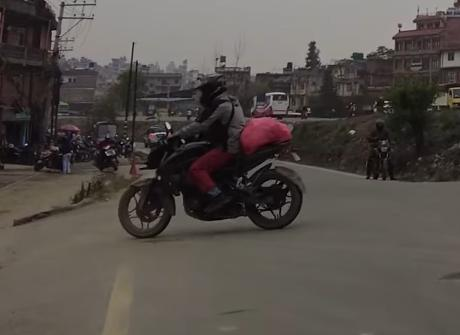bike: (116, 117, 308, 240)
